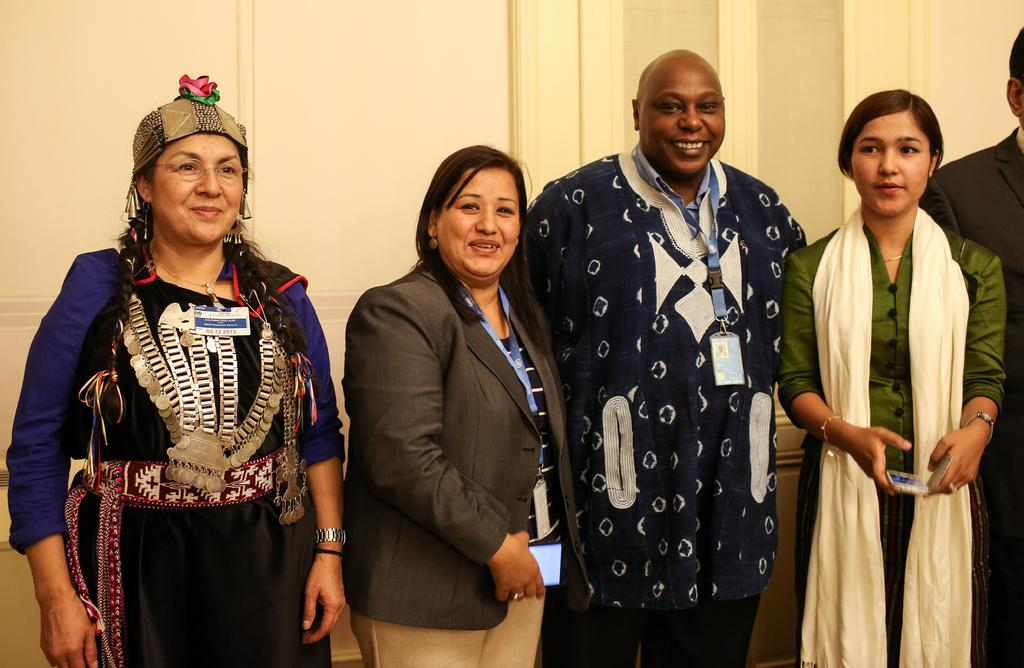Sem Máscara: (636, 54, 722, 174), (148, 135, 240, 242), (433, 159, 517, 273), (848, 111, 937, 216)
